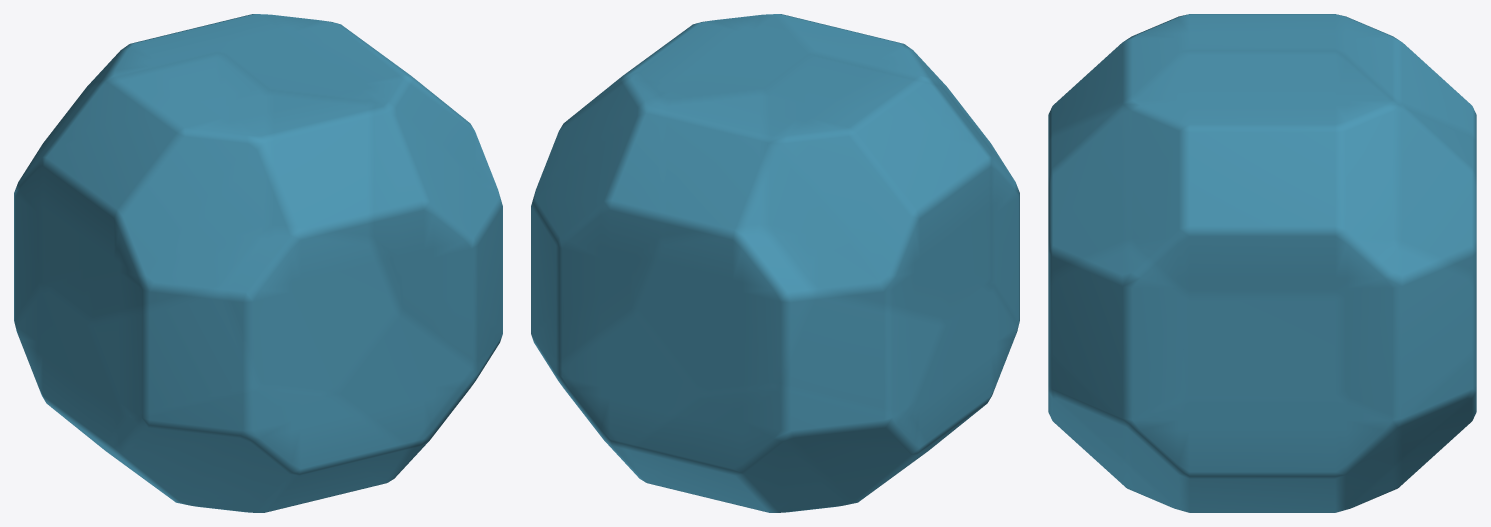
File: crystal_cube.fbx
3 renders of one model, left to right at view 1: azimuth 30°, elevation 25°; view 2: azimuth 150°, elevation 25°; view 3: azimuth 270°, elevation 25°, orthographic. The views are drawn at different scales.
Visible parts, largest first — view 1: cube_crystal; view 2: cube_crystal; view 3: cube_crystal.
Part boxes in pixels (x1,y1,x2,y2): cube_crystal: (14,14,502,512); cube_crystal: (531,14,1019,512); cube_crystal: (1048,14,1476,512).
Bounding box in the file's own units: 36.39 × 36.39 × 36.37.
